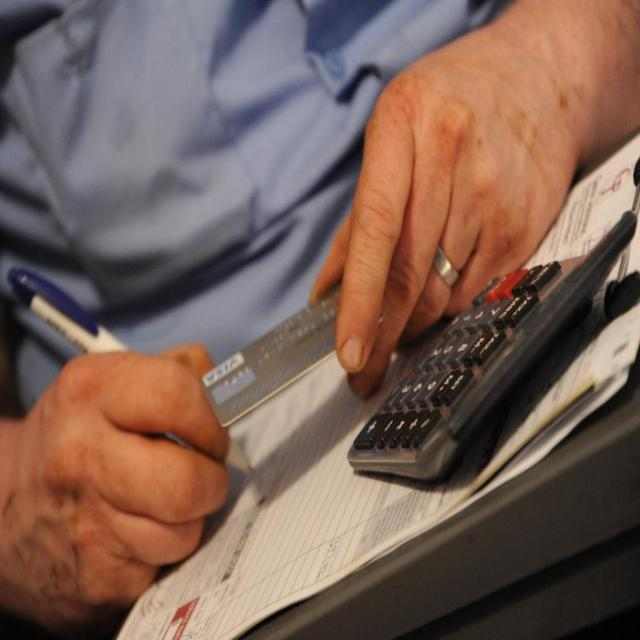pen: (6, 260, 264, 482)
